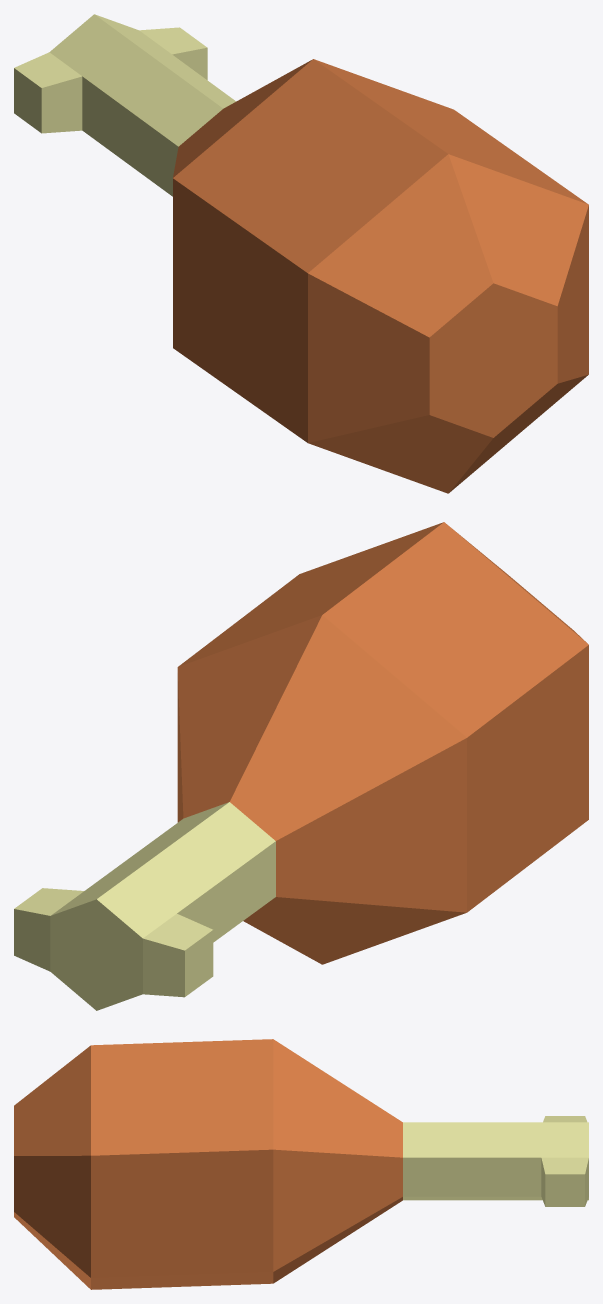
The model's file is ChickenLeg.fbx.
3 renders of one model, top to bottom at view 1: azimuth 30°, elevation 25°; view 2: azimuth 150°, elevation 25°; view 3: azimuth 270°, elevation 25°, orthographic. The views are drawn at different scales.
Visible parts, largest first — view 1: ChickenLeg; view 2: ChickenLeg; view 3: ChickenLeg.
Boxes of the visible parts, x1,y1,x2,y2 form: ChickenLeg: (14, 14, 588, 493); ChickenLeg: (14, 522, 588, 1010); ChickenLeg: (14, 1039, 588, 1289).
Bounding box in the file's own units: 40.53 × 46.05 × 96.83.
